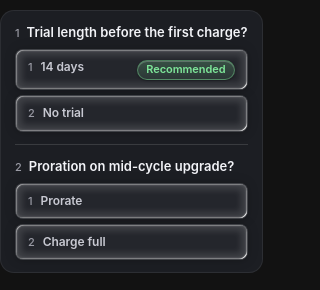
it: AskBand › keeps an answer changeable while the rest of the band is undecided
The image size is (320, 290).
Later steps or results of the test are not shown.
Click the button "2 No trial": (131, 114) x1=15 y1=95 x2=248 y2=132
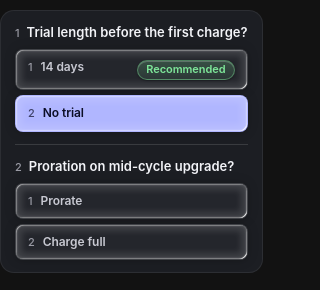
Expected: the button "2 No trial" has class "btn-primary", x1=15 y1=95 x2=248 y2=132
